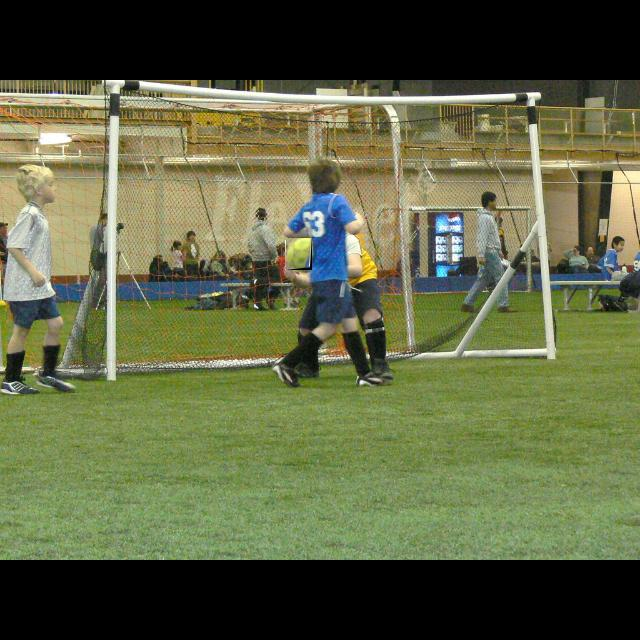Football: (286, 238, 312, 270)
